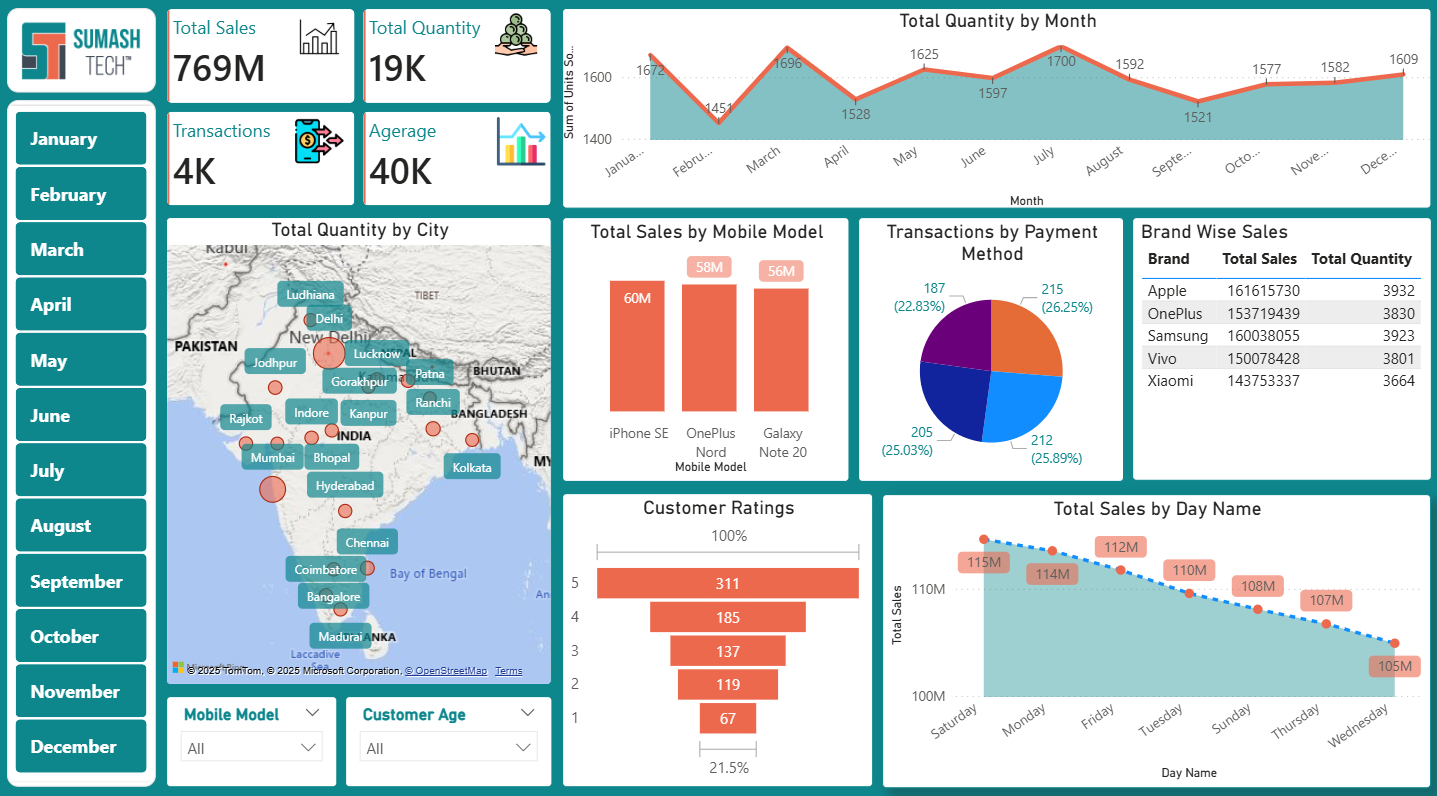

Layout of this report page (visuals, bound fields, positions):
{"tool":"powerbi","page":{"name":"Page 1","canvas":[1280,720],"ordinal":0},"visuals":[{"type":"shape","box":[9.7,12.6,132.3,74.9],"z":0},{"type":"image","box":[13.6,15.6,123.5,69.1],"z":1000},{"type":"shape","box":[9.7,94.3,132.3,608.9],"z":2000},{"type":"advancedSlicerVisual","fields":{"Values":["Sales_Data.Date.Variation.Date Hierarchy.Month"]},"box":[12.6,99.2,126.4,599.1],"z":3000},{"type":"cardVisual","fields":{"Data":["Sales_Data.Total Sales","Sales_Data.Total Quantity","Sales_Data.Transactions","Sales_Data.Agerage"]},"box":[150.8,12.6,342.4,178],"z":4000},{"type":"image","box":[251.9,15.6,70,43.8],"z":5000},{"type":"image","box":[428.9,15.6,64.2,39.9],"z":6000},{"type":"image","box":[428.9,108.9,72.9,42.8],"z":7000},{"type":"image","box":[264.6,108.9,44.7,42.8],"z":8000},{"type":"map","fields":{"Category":["Sales_Data.City"],"Size":["Sales_Data.Total Quantity"]},"box":[150.8,197.4,342.4,415.3],"z":9000},{"type":"lineChart","title":"Total Quantity by Month","fields":{"Y":["Sum(Sales_Data.Units Sold)"],"Category":["Sales_Data.Date.Variation.Date Hierarchy.Month"]},"box":[501.9,12.6,771.3,178],"z":10000},{"type":"clusteredColumnChart","fields":{"Category":["Sales_Data.Mobile Model"],"Y":["Sales_Data.Total Sales"]},"box":[501.9,197.4,254.8,235.4],"z":11000},{"type":"pieChart","fields":{"Category":["Sales_Data.Payment Method"],"Y":["Sales_Data.Transactions"]},"box":[764.5,197.4,236.4,235.4],"z":12000},{"type":"funnel","title":"Customer Ratings","fields":{"Category":["Sales_Data.Customer Ratings"],"Y":["CountNonNull(Sales_Data.Customer Ratings)"]},"box":[501.9,442.6,276.2,260.7],"z":12001},{"type":"areaChart","fields":{"Category":["Sales_Data.Day Name"],"Y":["Sales_Data.Total Sales"]},"box":[786,443,487,261],"z":12002},{"type":"tableEx","title":"Brand Wise Sales","fields":{"Values":["Sales_Data.Brand","Sales_Data.Total Sales","Sales_Data.Total Quantity"]},"box":[1007.7,197.4,265.5,234.4],"z":12003},{"type":"slicer","fields":{"Values":["Sales_Data.Mobile Model"]},"box":[150.8,622.5,151.7,80.7],"z":12004},{"type":"slicer","fields":{"Values":["Sales_Data.Customer Age"]},"box":[309.3,622.5,183.8,80.7],"z":12005}]}

Visuals, with their boxes in screenshot pixels (x1, y1, x2, y2), scaled from the page's 1280x720 canvas onto the 1437x796 screenshot:
shape: (left=11, top=14, right=159, bottom=97)
image: (left=15, top=17, right=154, bottom=94)
shape: (left=11, top=104, right=159, bottom=777)
advancedSlicerVisual - Sales_Data.Date.Variation.Date Hierarchy.Month: (left=14, top=110, right=156, bottom=772)
cardVisual - Sales_Data.Total Sales x Sales_Data.Total Quantity: (left=169, top=14, right=554, bottom=211)
image: (left=283, top=17, right=361, bottom=66)
image: (left=482, top=17, right=554, bottom=61)
image: (left=482, top=120, right=563, bottom=168)
image: (left=297, top=120, right=347, bottom=168)
map - Sales_Data.City x Sales_Data.Total Quantity: (left=169, top=218, right=554, bottom=677)
"Total Quantity by Month" lineChart: (left=563, top=14, right=1429, bottom=211)
clusteredColumnChart - Sales_Data.Mobile Model x Sales_Data.Total Sales: (left=563, top=218, right=850, bottom=478)
pieChart - Sales_Data.Payment Method x Sales_Data.Transactions: (left=858, top=218, right=1124, bottom=478)
"Customer Ratings" funnel: (left=563, top=489, right=874, bottom=778)
areaChart - Sales_Data.Day Name x Sales_Data.Total Sales: (left=882, top=490, right=1429, bottom=778)
"Brand Wise Sales" tableEx: (left=1131, top=218, right=1429, bottom=477)
slicer - Sales_Data.Mobile Model: (left=169, top=688, right=340, bottom=777)
slicer - Sales_Data.Customer Age: (left=347, top=688, right=554, bottom=777)
